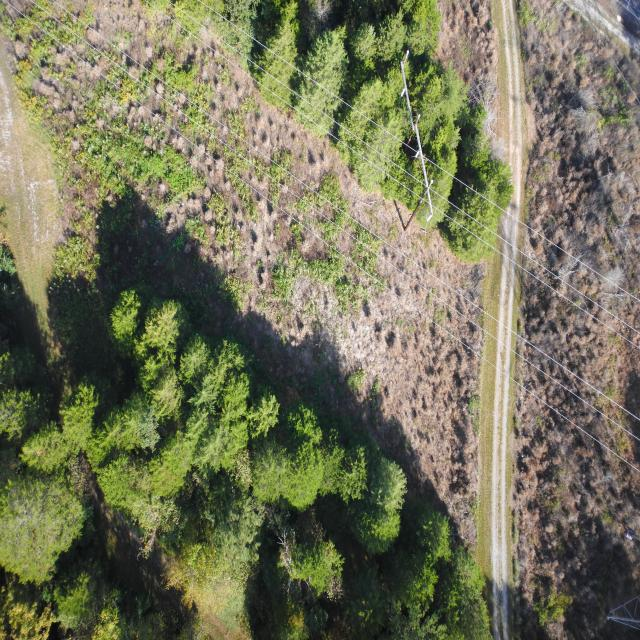Area of Interest: (6, 296, 489, 640), (280, 19, 502, 214)
